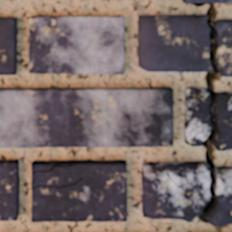brick: (0, 88, 172, 146), (32, 161, 126, 221), (29, 16, 123, 73), (0, 160, 18, 219), (0, 18, 16, 74), (185, 0, 231, 2)
broken_brick: (137, 14, 210, 72), (141, 161, 209, 222), (184, 87, 209, 146), (210, 166, 231, 224), (216, 92, 231, 151), (217, 19, 231, 77)
crack: (190, 2, 231, 229), (31, 176, 84, 190), (31, 162, 72, 174)
